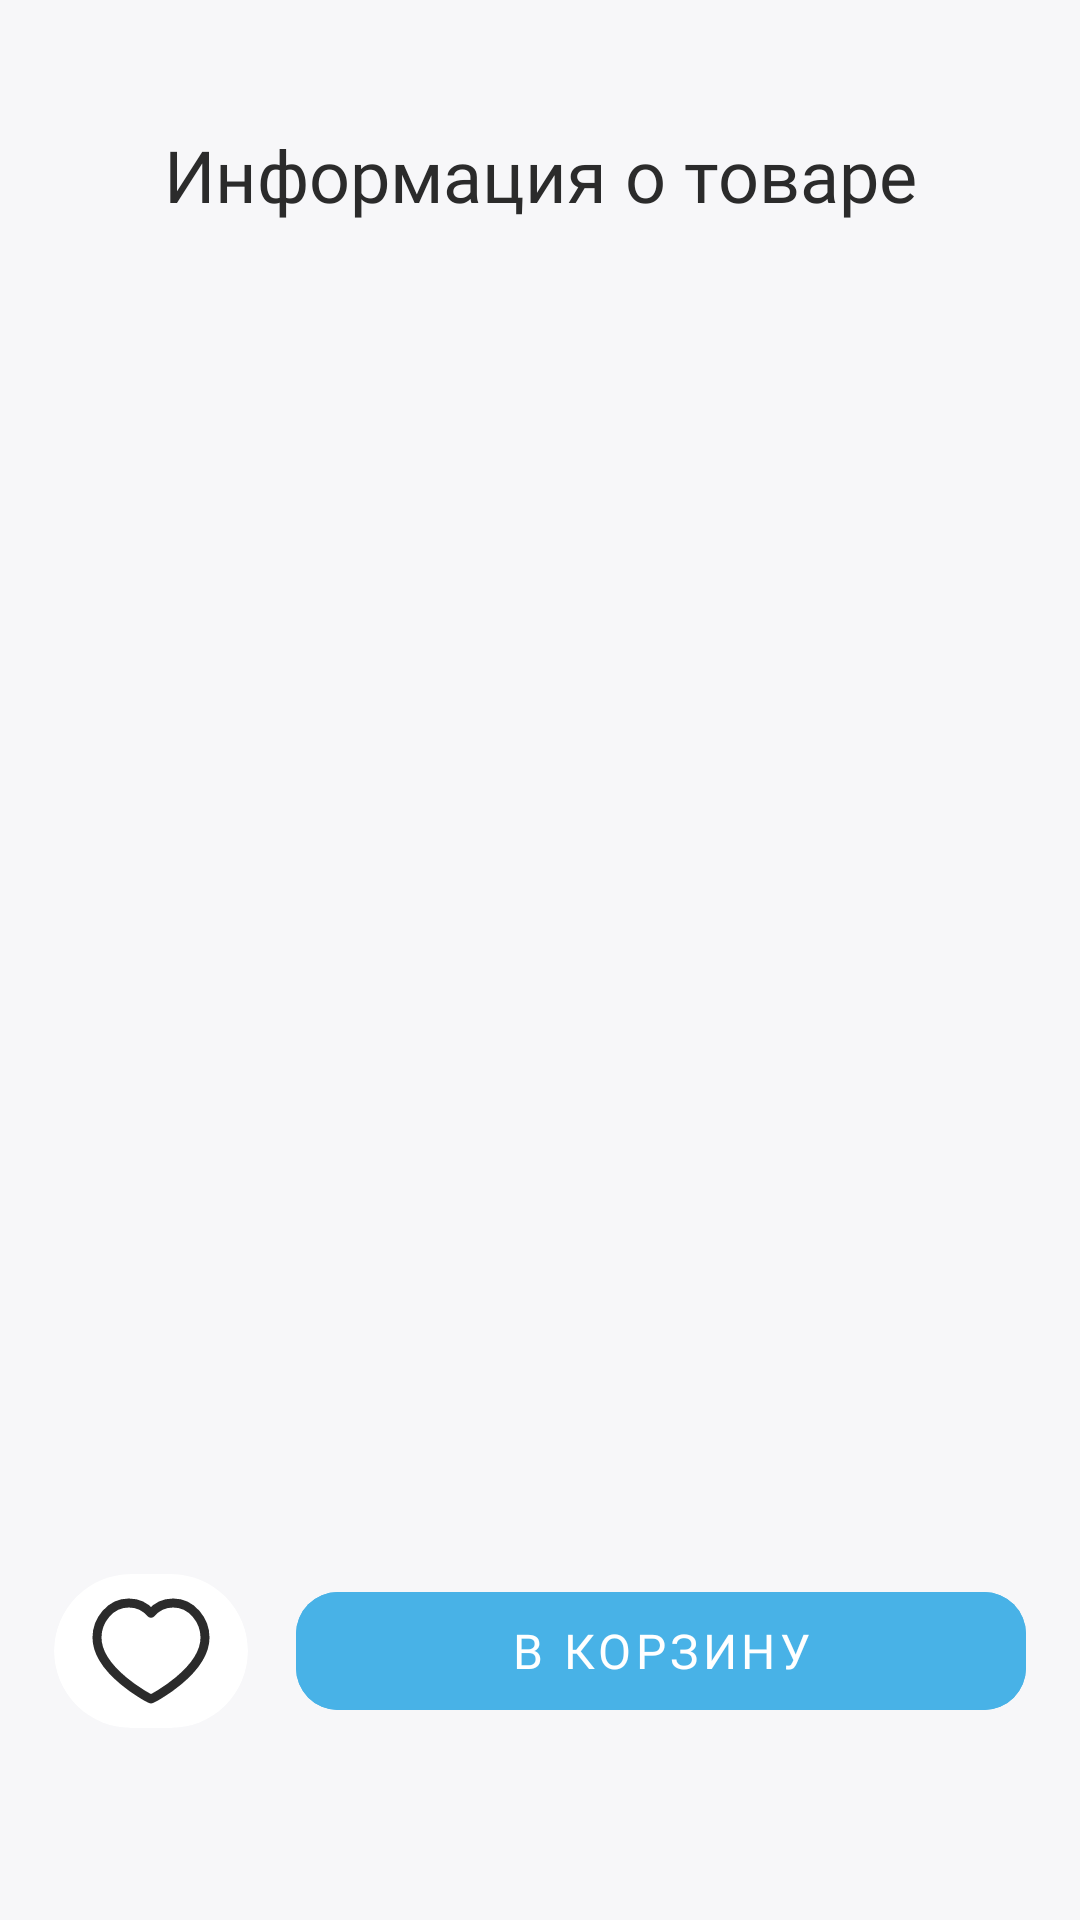

Icon click points for this 1080*1920 phone screenshot, format (x=x, y=y):
favorite: (x=151, y=1651)
